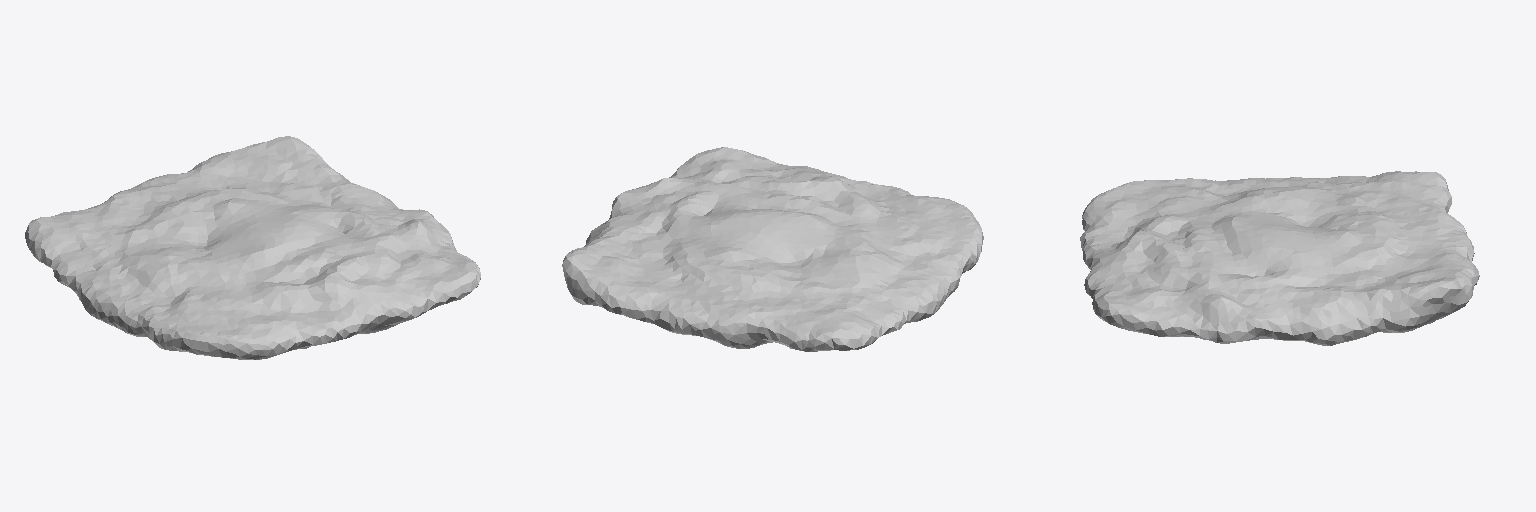
Rendered from Flat 1.obj.
3 views of the same model, side by side, from view 1: azimuth 30°, elevation 25°; view 2: azimuth 150°, elevation 25°; view 3: azimuth 270°, elevation 25° (orthographic).
Parts seen in each view (by area): view 1: Flat_1_Icosphere.001; view 2: Flat_1_Icosphere.001; view 3: Flat_1_Icosphere.001.
Boxes of the visible parts, box(x1,y1,x2,y2) form: Flat_1_Icosphere.001: box(25, 136, 480, 359); Flat_1_Icosphere.001: box(562, 147, 983, 351); Flat_1_Icosphere.001: box(1080, 171, 1479, 345).
Size of the model in its own units: 14.67 by 2.57 by 15.16.